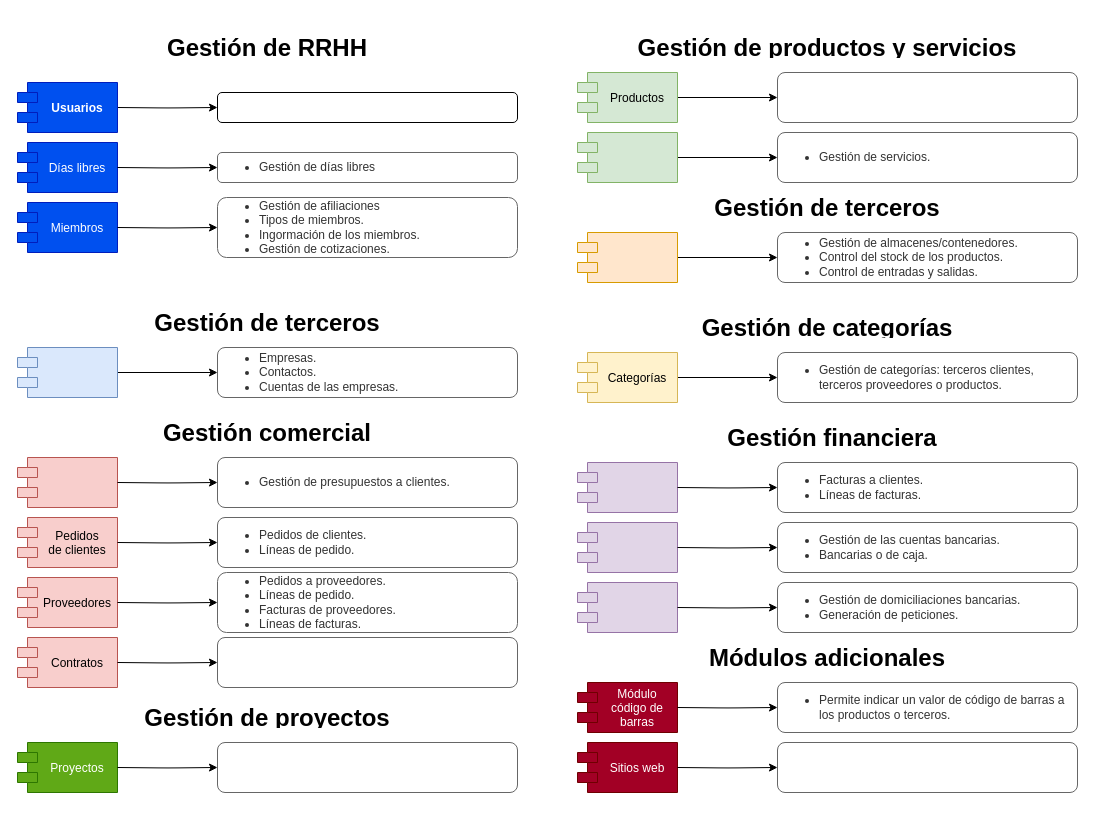
The diagram is 1095 pixels wide and 818 high, and some of its shapes have lost their labels. Here are the shapes that lost their labels. From the top down, the centre of each, then its label:
the point at 367,107: Gestión de usuarios y grupos.
the point at 927,97: Gestión de productos.
the point at 627,157: Servicios
the point at 627,257: Almacenes
the point at 67,372: Terceros
the point at 67,482: Presupuestos
the point at 627,487: Facturas a clientes
the point at 627,547: Banco - Caja
the point at 627,607: Domiciliaciones bancarias
the point at 367,662: Gestión de los contratos de servicios.
the point at 367,767: Permite gestionar proyectos. Tareas. Presupuestos, pedidos y facturas.
the point at 927,767: Web con editor WYSIWYG
